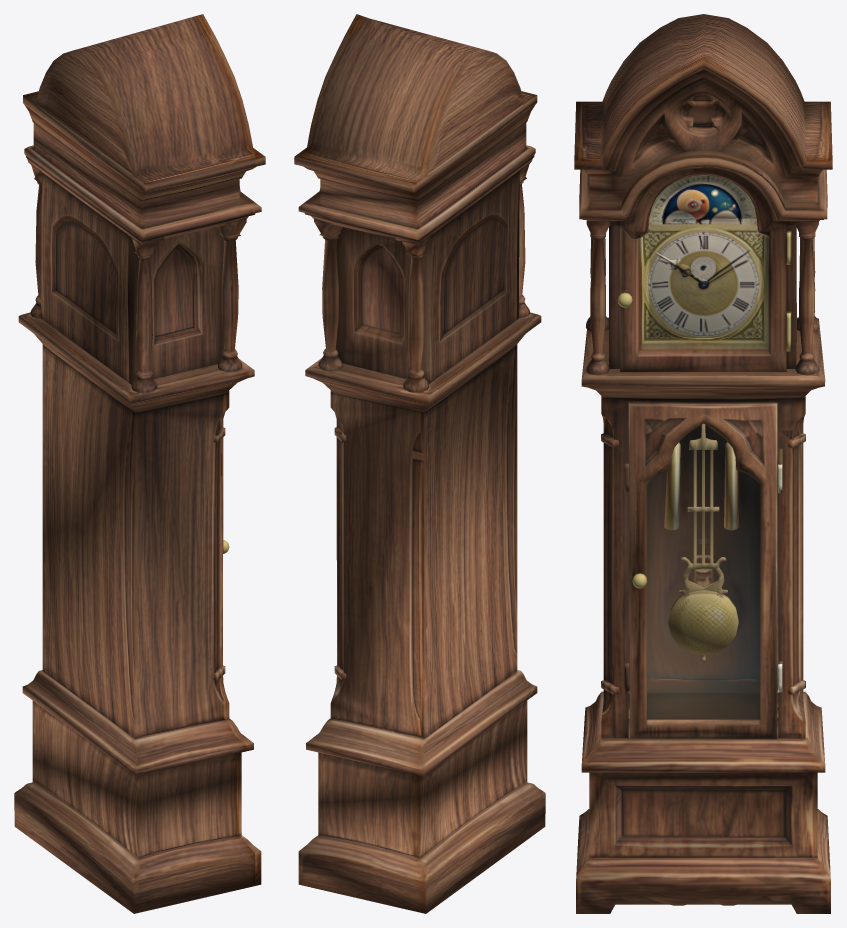
The model's file is SM_Env_BaskervilleGrandfatherClock.fbx.
3 views of the same model, side by side, from view 1: azimuth 30°, elevation 25°; view 2: azimuth 150°, elevation 25°; view 3: azimuth 270°, elevation 25° (orthographic). The views are drawn at different scales.
Visible parts, largest first — view 1: SM_Env_BaskervilleGrandfatherClock; view 2: SM_Env_BaskervilleGrandfatherClock; view 3: SM_Env_BaskervilleGrandfatherClock.
Boxes of the visible parts, x1,y1,x2,y2 form: SM_Env_BaskervilleGrandfatherClock: (14,14,265,913); SM_Env_BaskervilleGrandfatherClock: (294,14,545,913); SM_Env_BaskervilleGrandfatherClock: (574,14,832,913).
Bounding box in the file's own units: 10.31 × 17.27 × 63.
1 material, 1 textured.
